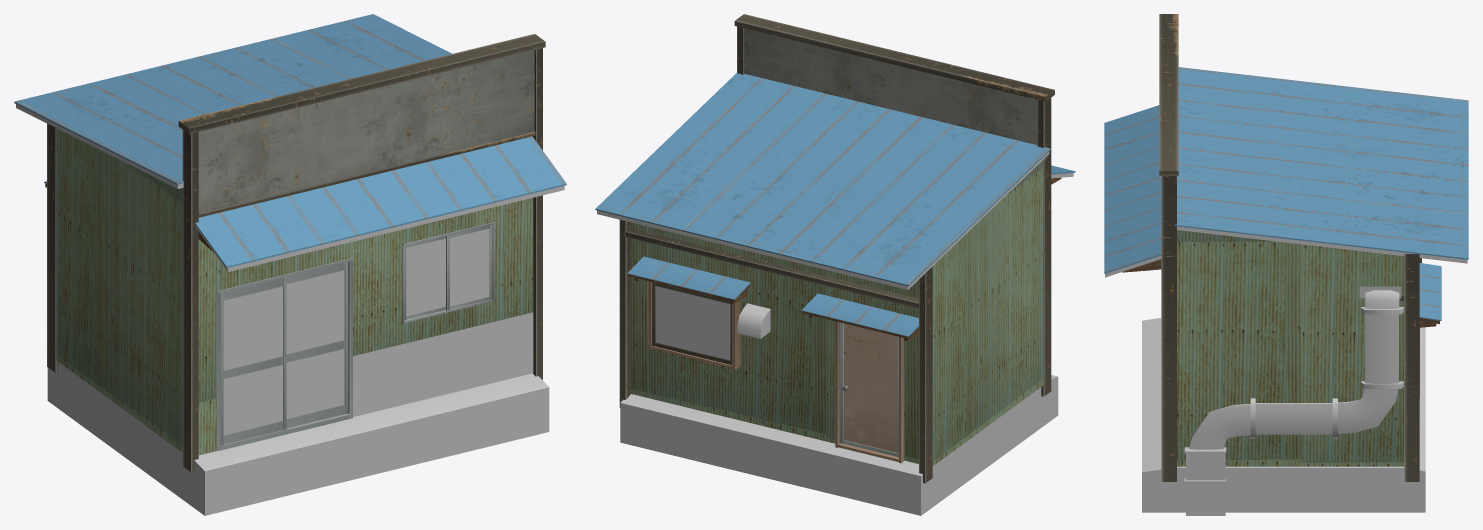
File: ms_small_2.fbx
The picture shows the model from 3 angles, left to right: view 1: azimuth 30°, elevation 25°; view 2: azimuth 150°, elevation 25°; view 3: azimuth 270°, elevation 25°; orthographic projection. The views are drawn at different scales.
Parts seen in each view (by area): view 1: ms_small_2; view 2: ms_small_2; view 3: ms_small_2.
Part boxes in pixels (x1,y1,x2,y2): ms_small_2: (14, 14, 566, 515); ms_small_2: (595, 14, 1075, 515); ms_small_2: (1104, 14, 1468, 515).
Size of the model in its own units: 610 by 618 by 591.
